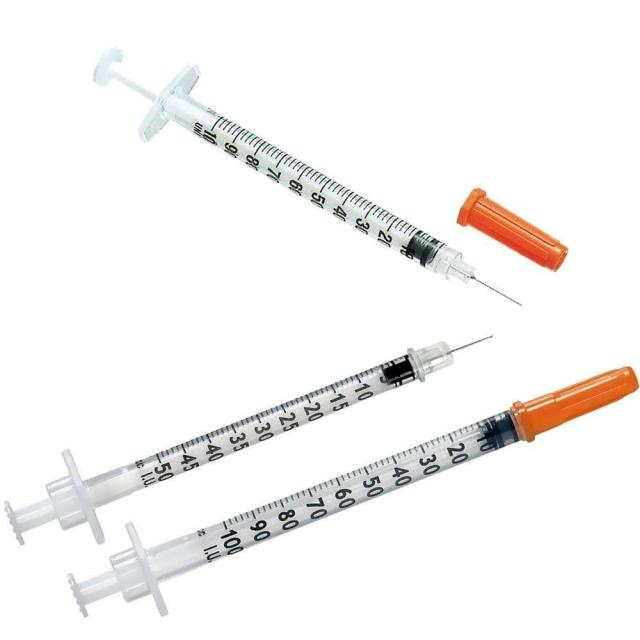syringe: (65, 363, 638, 619), (91, 44, 525, 307), (3, 332, 495, 547)
